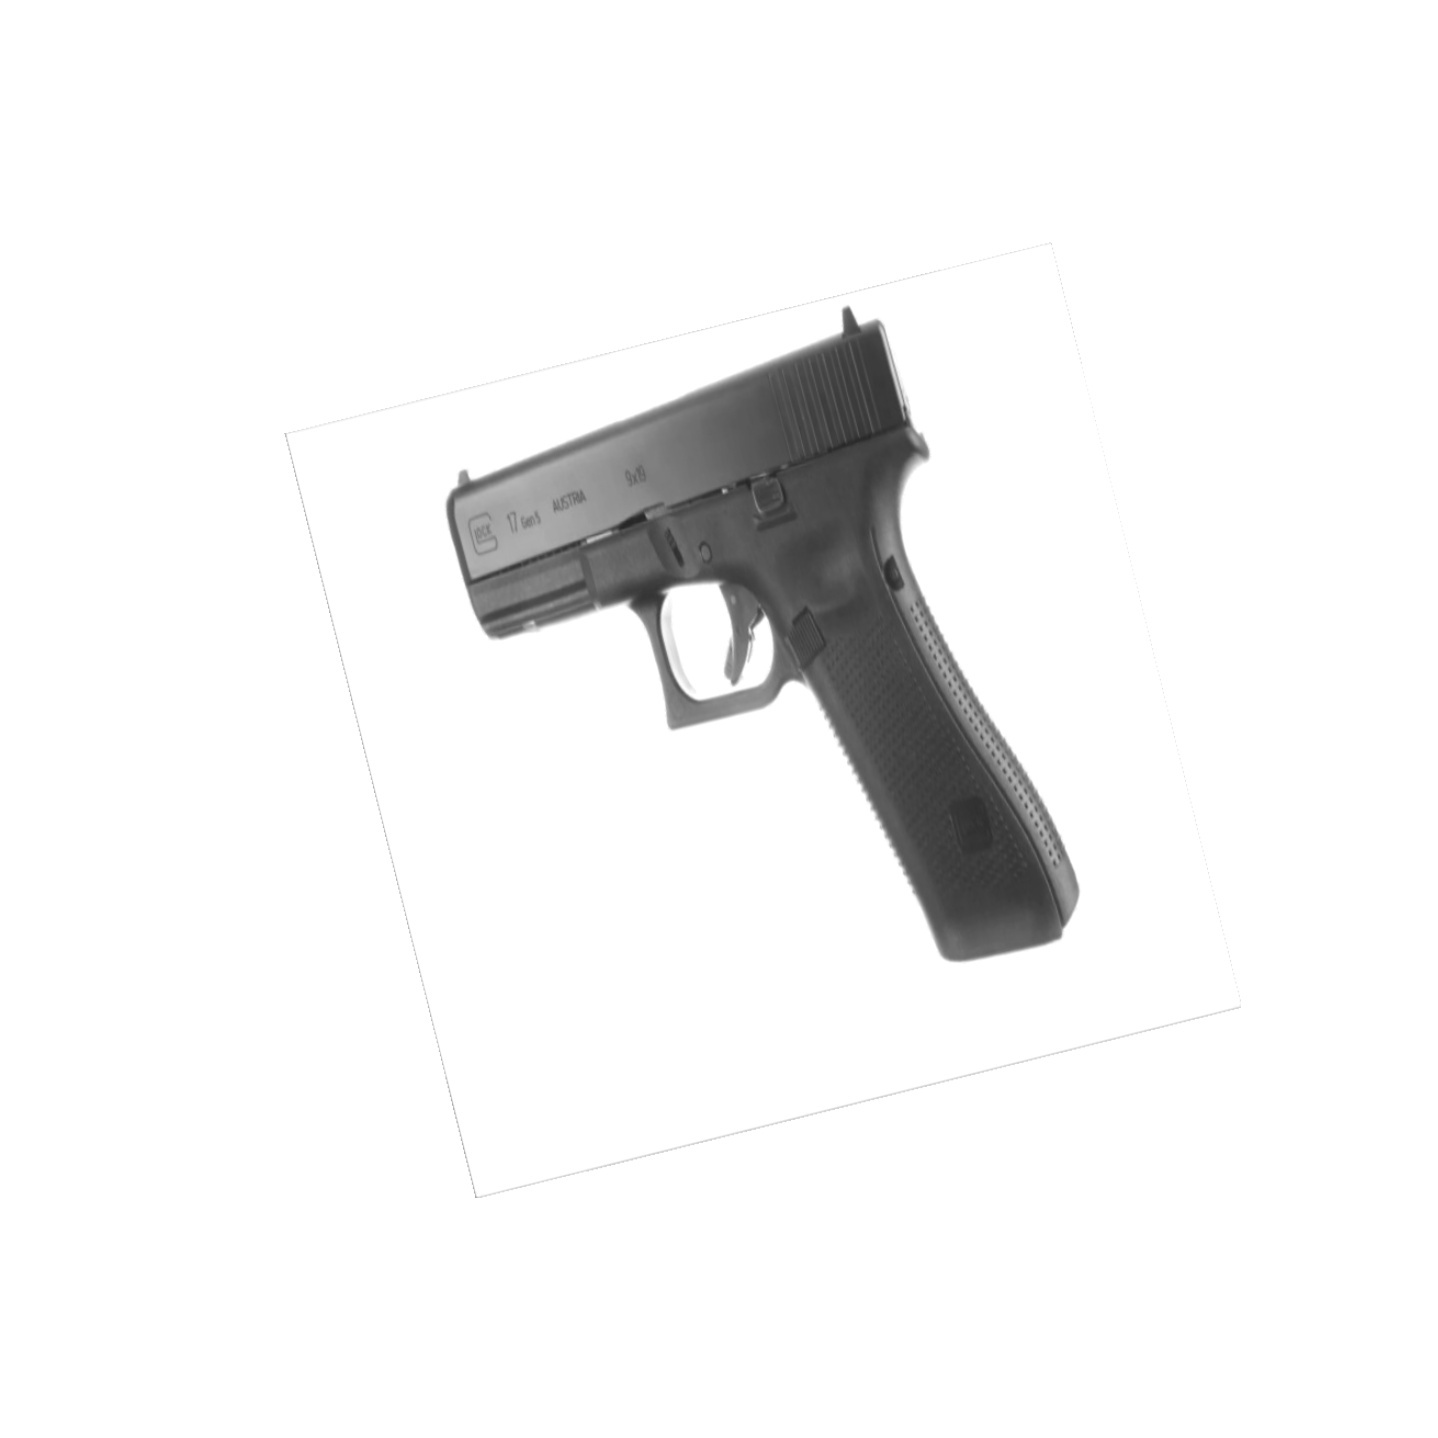gun: (446, 302, 1090, 967)
